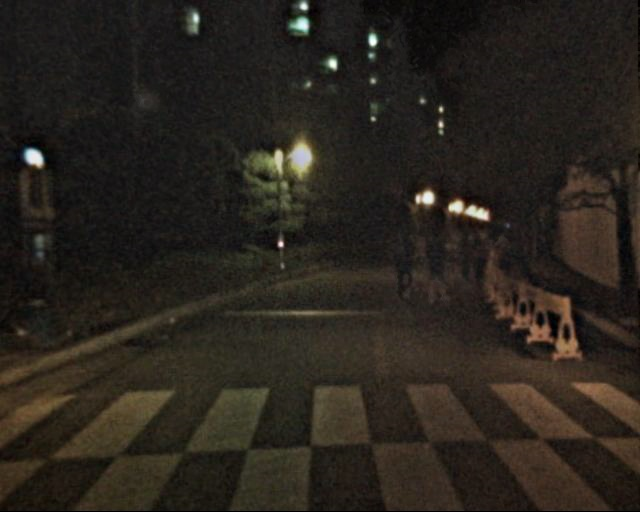person: (386, 229, 418, 306), (420, 233, 452, 310), (456, 233, 479, 289), (469, 237, 492, 292)
